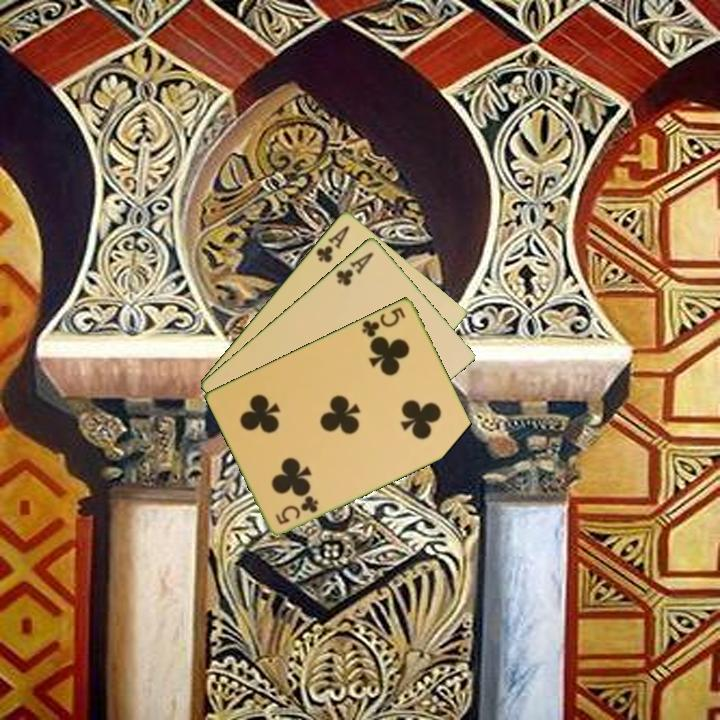5c: (358, 303, 409, 340), (272, 492, 322, 527)
Ac: (332, 248, 377, 289), (312, 221, 352, 265)
